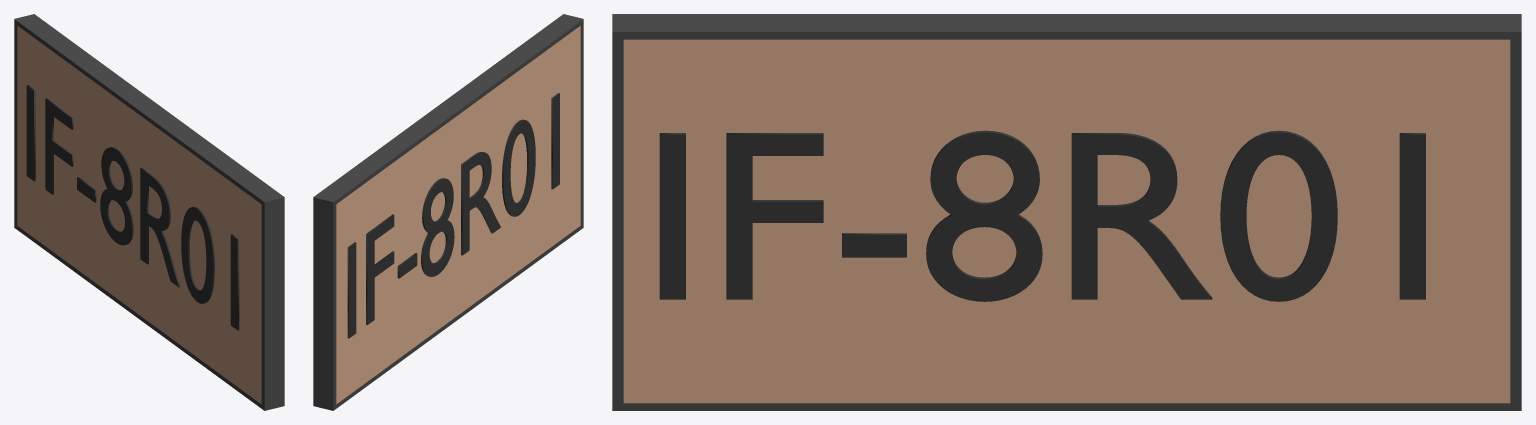
3 views of the same model, side by side, from view 1: azimuth 30°, elevation 25°; view 2: azimuth 150°, elevation 25°; view 3: azimuth 270°, elevation 25° (orthographic). The views are drawn at different scales.
Parts seen in each view (by area): view 1: Cube, Text.001; view 2: Cube, Text.001; view 3: Cube, Text.
Part boxes in pixels (x1=…): Cube: x1=14, y1=14, x2=284, y2=410; Text.001: x1=26, y1=85, x2=239, y2=330; Cube: x1=313, y1=14, x2=583, y2=410; Text.001: x1=347, y1=93, x2=559, y2=338; Cube: x1=612, y1=14, x2=1521, y2=410; Text: x1=659, y1=130, x2=1425, y2=301.
Bounding box in the file's own units: 12.6 × 105 × 229.
